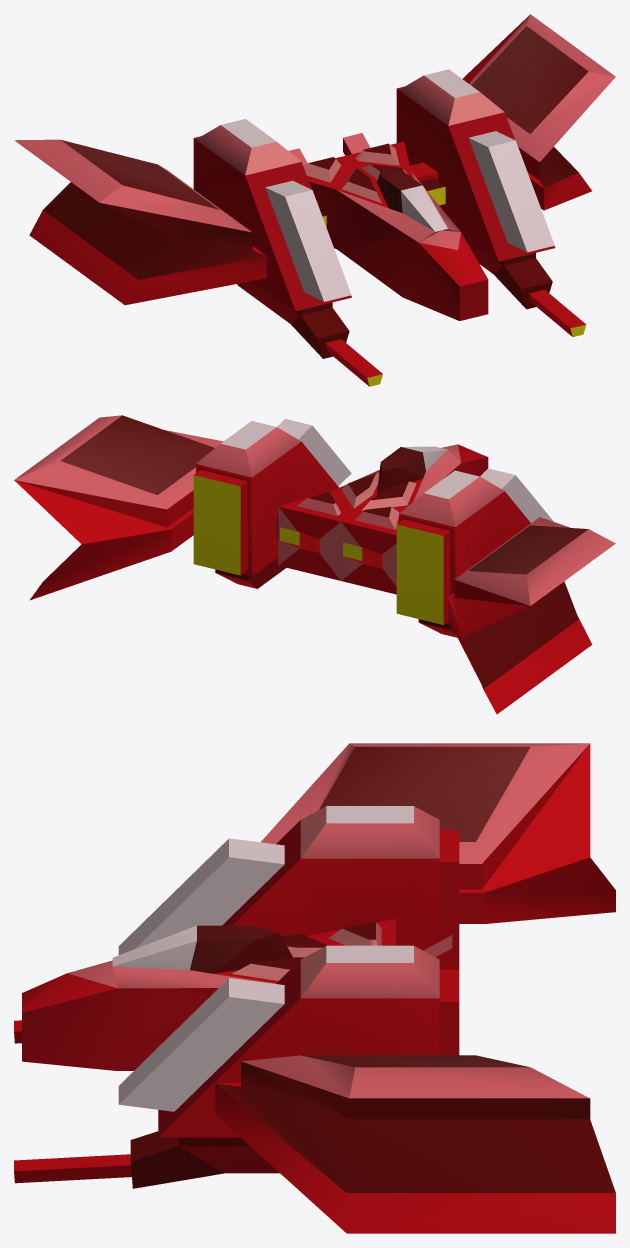
Rendered from FIGHTER.glb.
3 views of the same model, one above another, from view 1: azimuth 30°, elevation 25°; view 2: azimuth 150°, elevation 25°; view 3: azimuth 270°, elevation 25° (orthographic). The views are drawn at different scales.
Visible parts, largest first — view 1: Cube; view 2: Cube; view 3: Cube.
Boxes of the visible parts, left/top/right/bottom form: Cube: left=14, top=14, right=615, bottom=386; Cube: left=14, top=415, right=615, bottom=714; Cube: left=14, top=743, right=615, bottom=1233.
Bounding box in the file's own units: 11.17 × 3.34 × 8.
